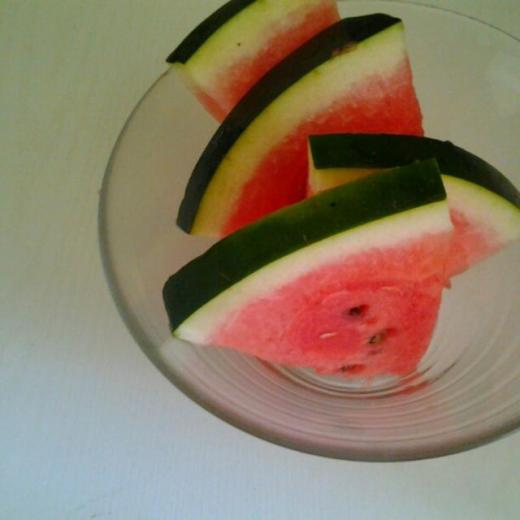Cherry: (158, 160, 442, 376), (172, 11, 422, 240), (309, 137, 520, 279), (172, 1, 338, 123)
